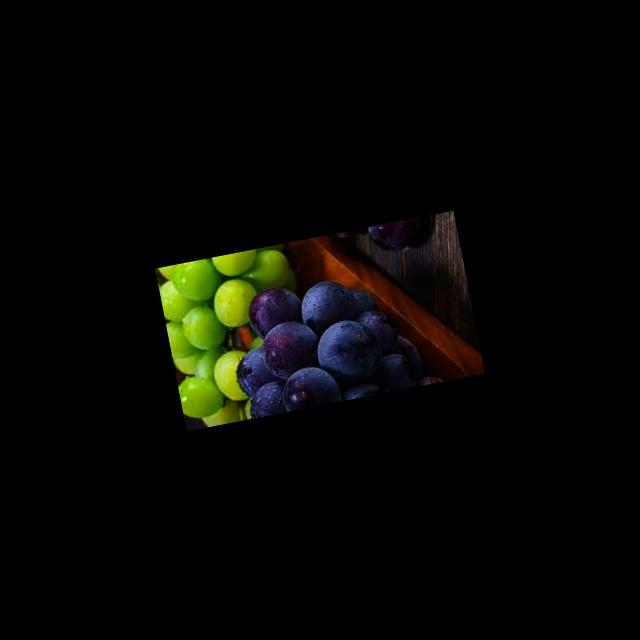grape: (238, 264, 405, 416), (157, 254, 256, 426)
